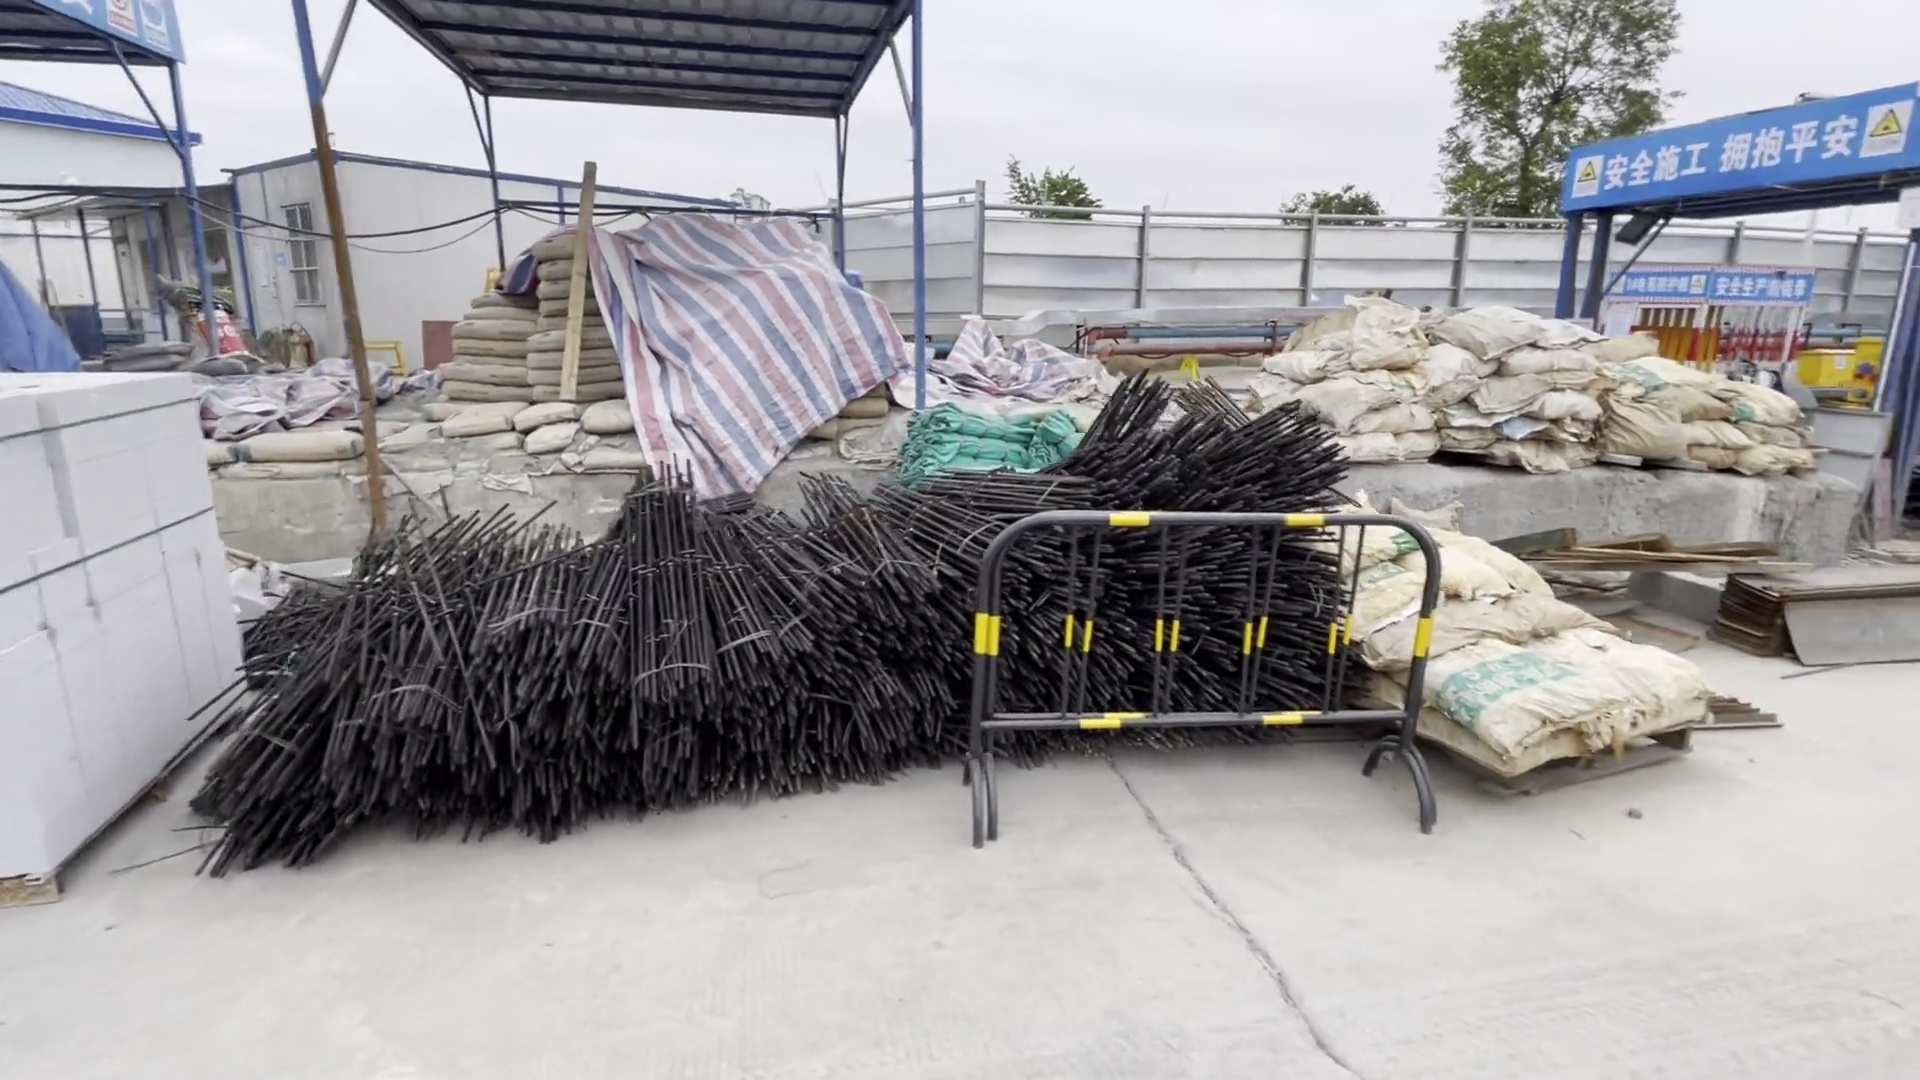brick: (1, 347, 241, 872)
ebox: (1783, 332, 1920, 418)
slogan: (1568, 117, 1895, 211), (1606, 258, 1817, 298)
